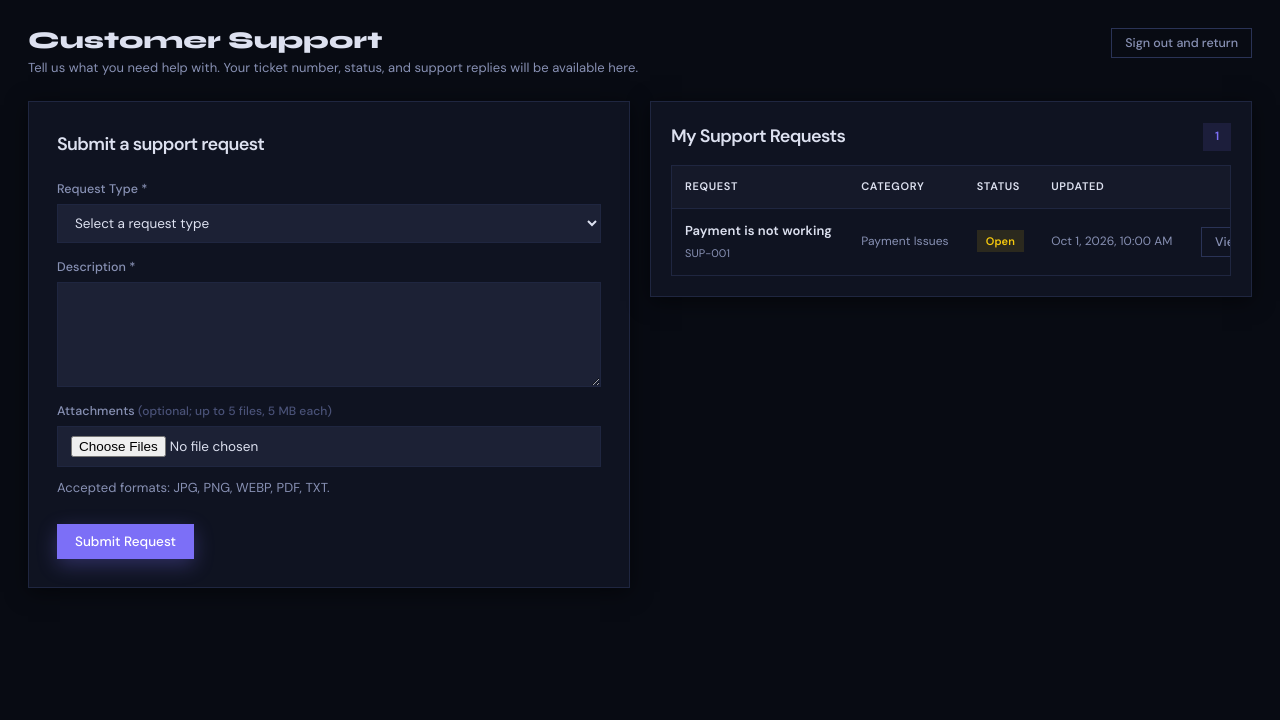
Test: React Customer Support › does not reopen a ticket closed while its follow-up is pending
The image size is (1280, 720).
Click the button "View" at {"x": 1229, "y": 242}, box top-left (1201, 227), bottom-right (1258, 257)
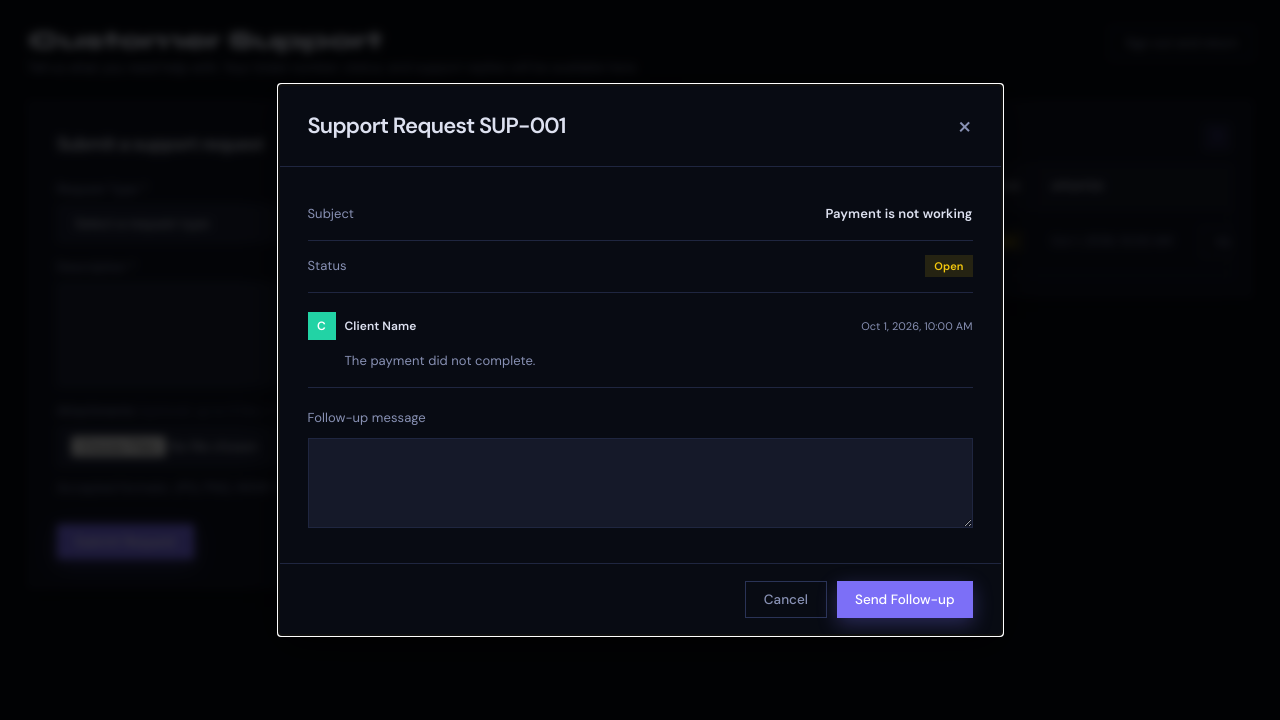
Type "Please recheck." into the text box labelled "Follow-up message" at {"x": 640, "y": 483}, box top-left (308, 438), bottom-right (972, 528)
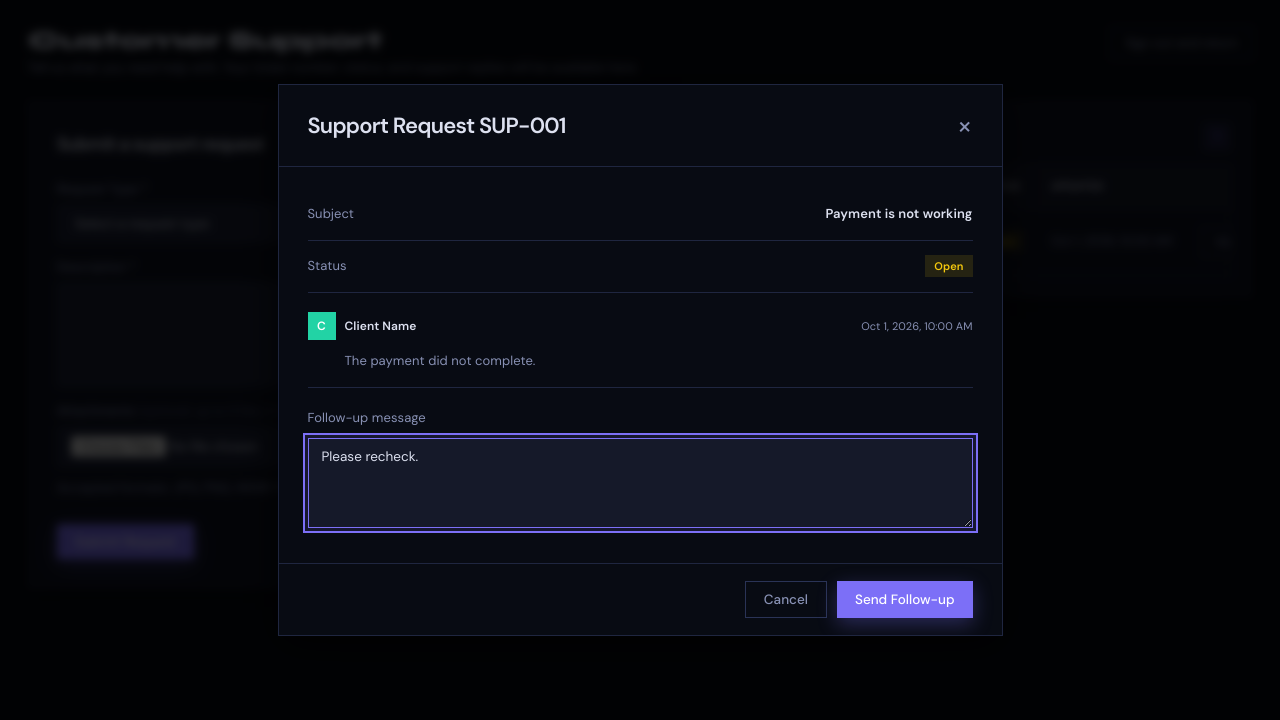
Click the button "Send Follow-up" at {"x": 905, "y": 599}, box top-left (837, 581), bottom-right (972, 618)
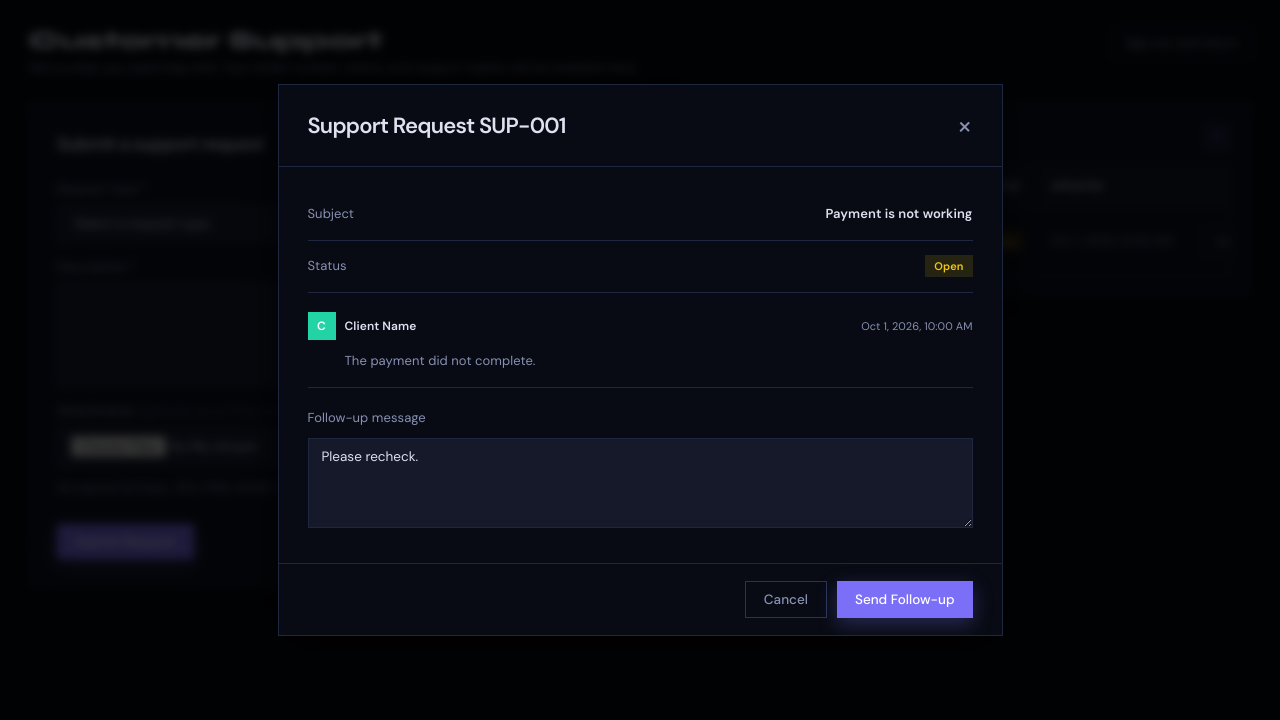
Click the button named "Close" at {"x": 965, "y": 126}, box top-left (957, 112), bottom-right (972, 140)
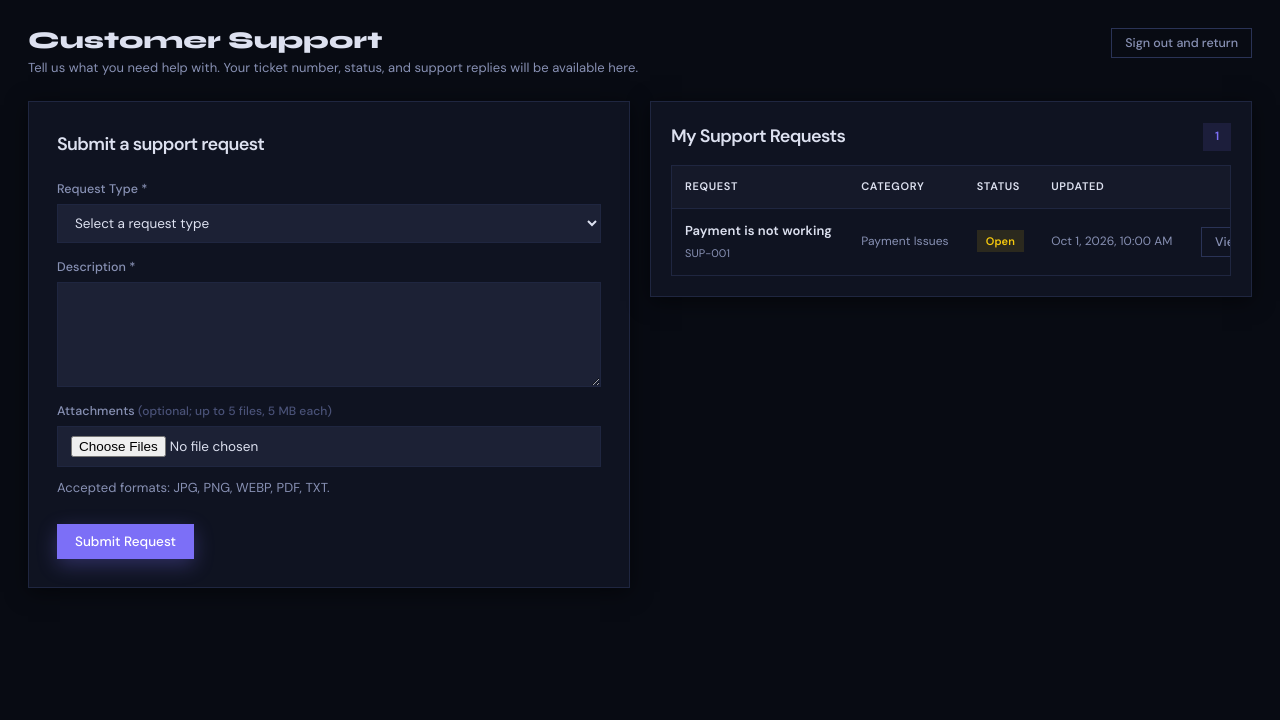
Result: the dialog is gone
